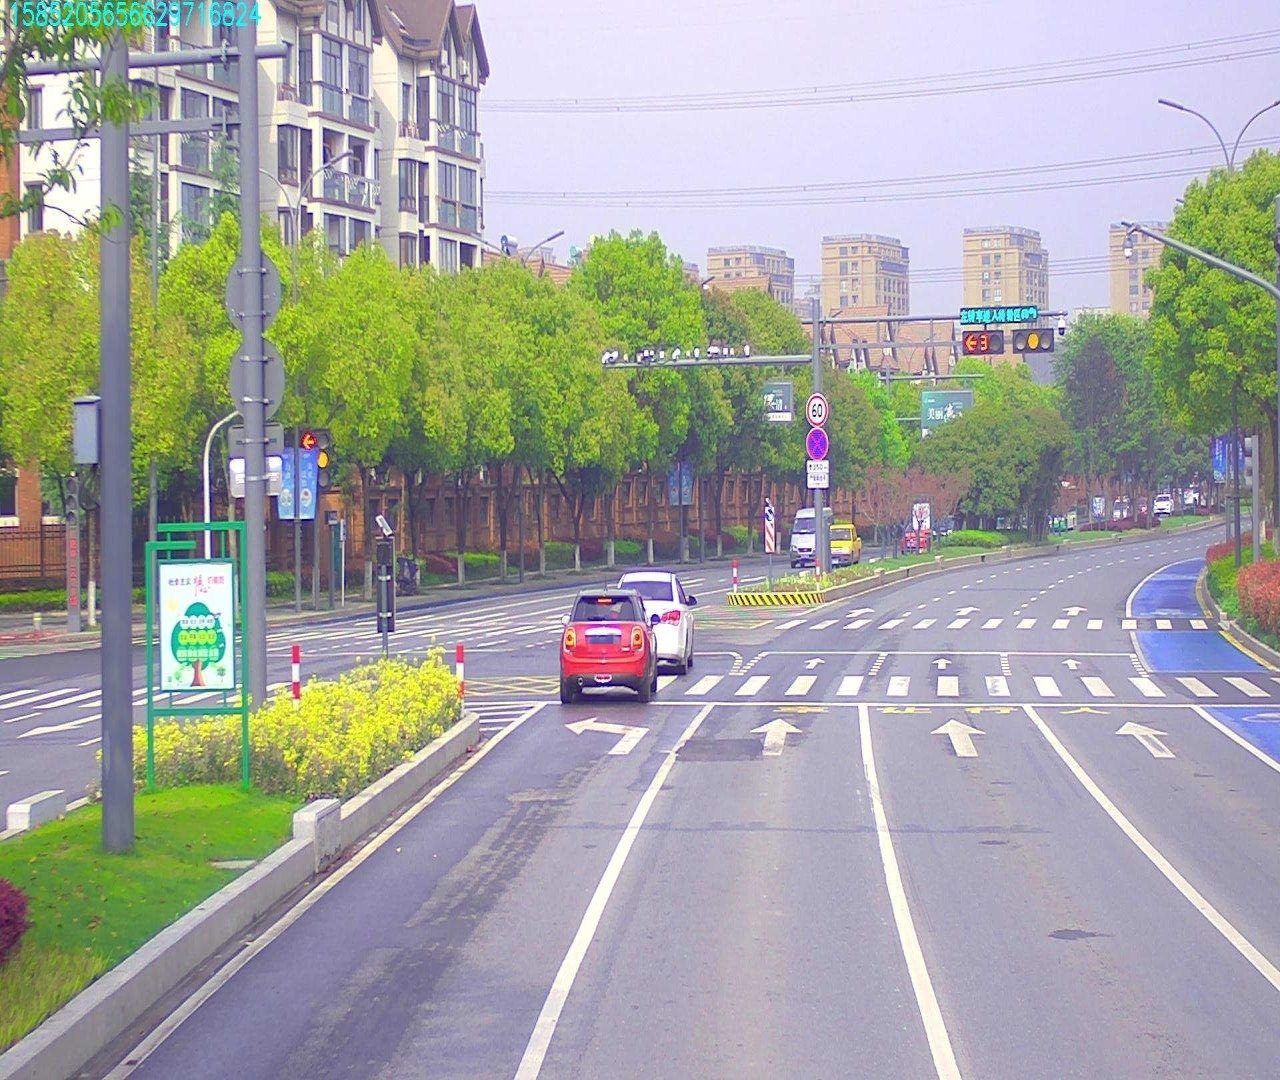red: (965, 337, 1006, 354)
yellow: (1018, 328, 1053, 354)
